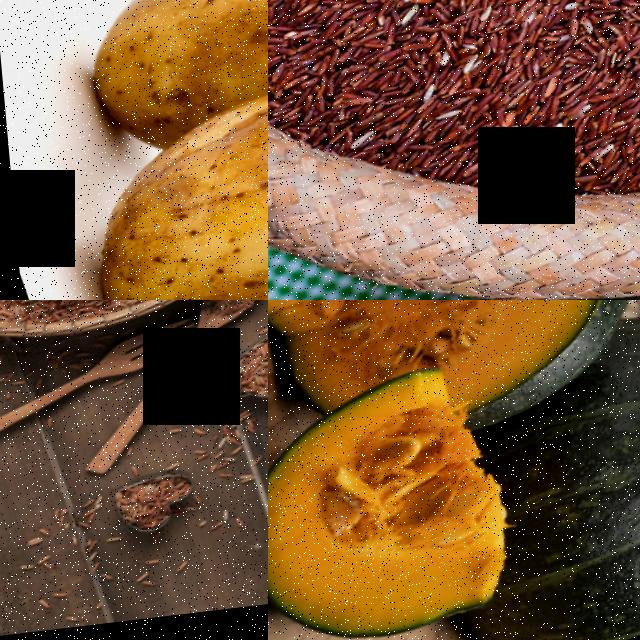potato: (42, 25, 268, 300), (49, 0, 268, 158)
pumpkin: (268, 355, 535, 640), (453, 326, 640, 640), (268, 300, 640, 427)
red rice: (268, 0, 640, 180), (540, 11, 640, 235), (0, 300, 268, 369), (107, 478, 185, 536), (217, 334, 268, 419), (192, 300, 267, 331)
